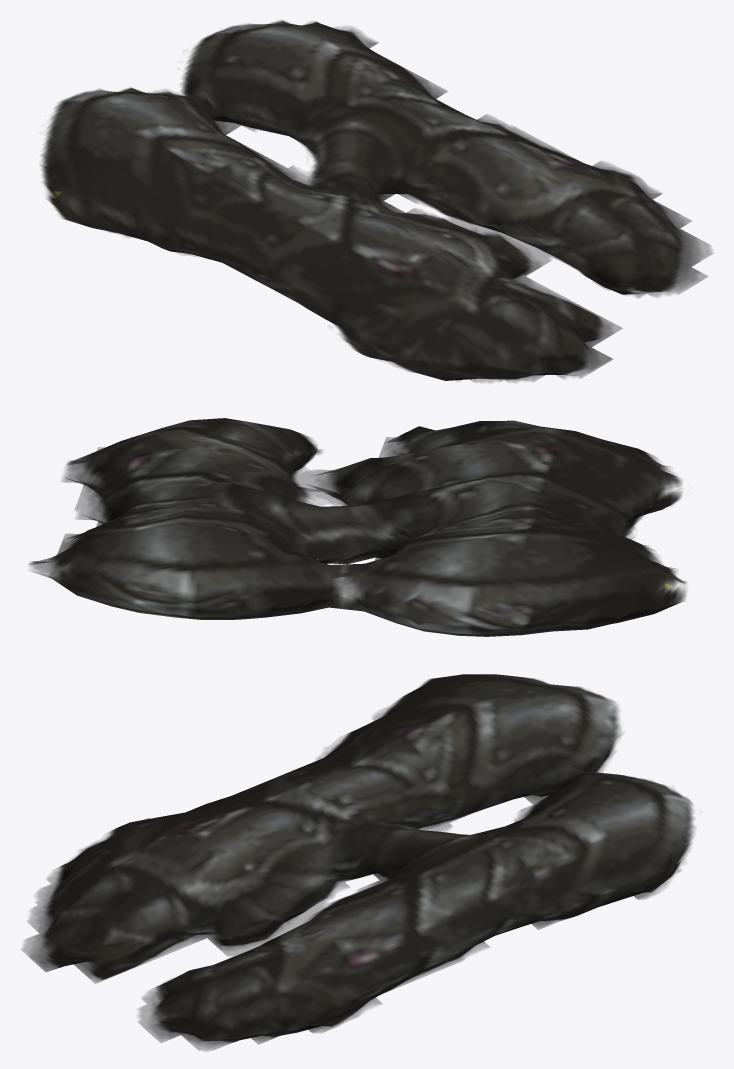
The model's file is drop_gloves.glb.
3 views of the same model, one above another, from view 1: azimuth 30°, elevation 25°; view 2: azimuth 150°, elevation 25°; view 3: azimuth 270°, elevation 25° (orthographic). The views are drawn at different scales.
Visible parts, largest first — view 1: drop_gloves; view 2: drop_gloves; view 3: drop_gloves.
Part boxes in pixels (box(x1,y1,x2,y2)): drop_gloves: box(40, 20, 712, 382); drop_gloves: box(29, 418, 686, 636); drop_gloves: box(21, 674, 695, 1051).
Size of the model in its own units: 0.5707 by 0.1382 by 0.5811.
Materials: 1 (1 with a texture image).
